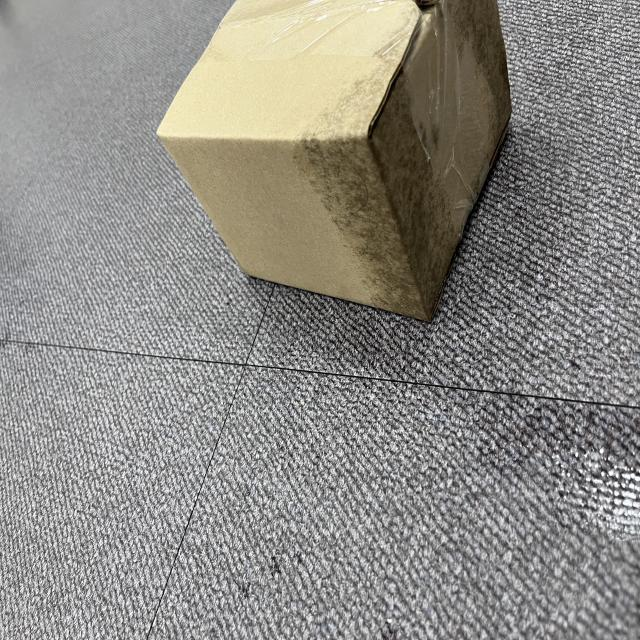wet: (235, 396, 480, 640)
